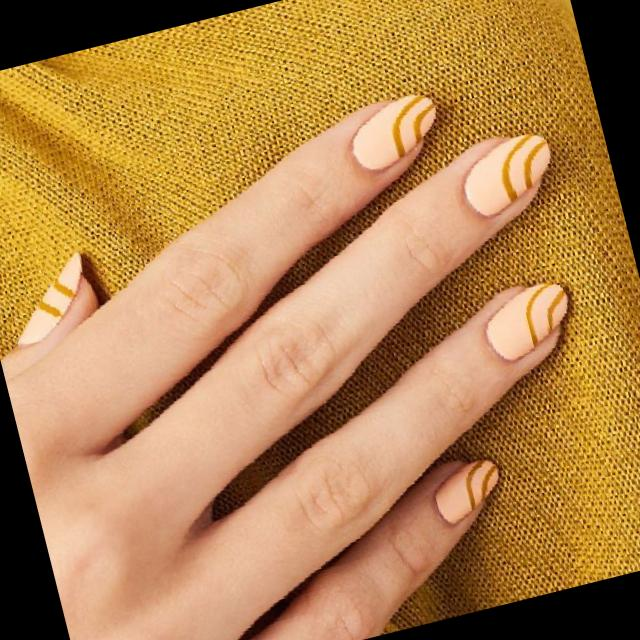Nail: (465, 134, 550, 216), (486, 283, 568, 360), (352, 94, 435, 169), (17, 252, 82, 346), (435, 461, 497, 524)
